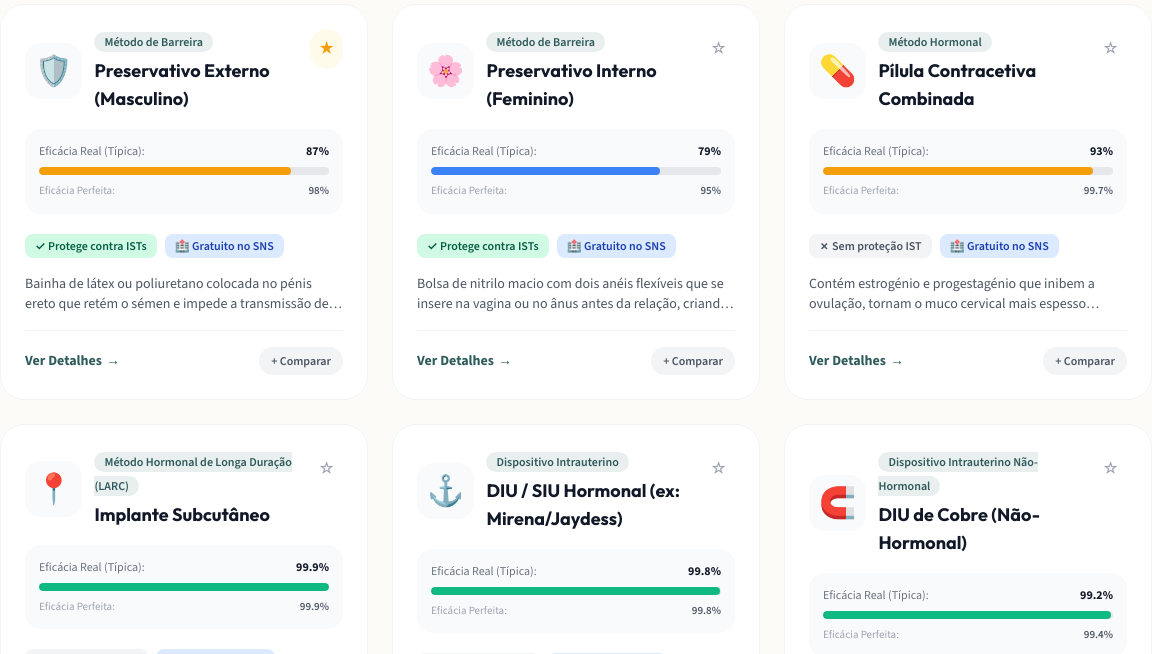
Scenario: ContraceptiveComparator › shows compare limit notice when trying to add 4th method
(page scrolled)
Click the button "+ Comparar" below "98": [301, 360] box [259,346,343,374]
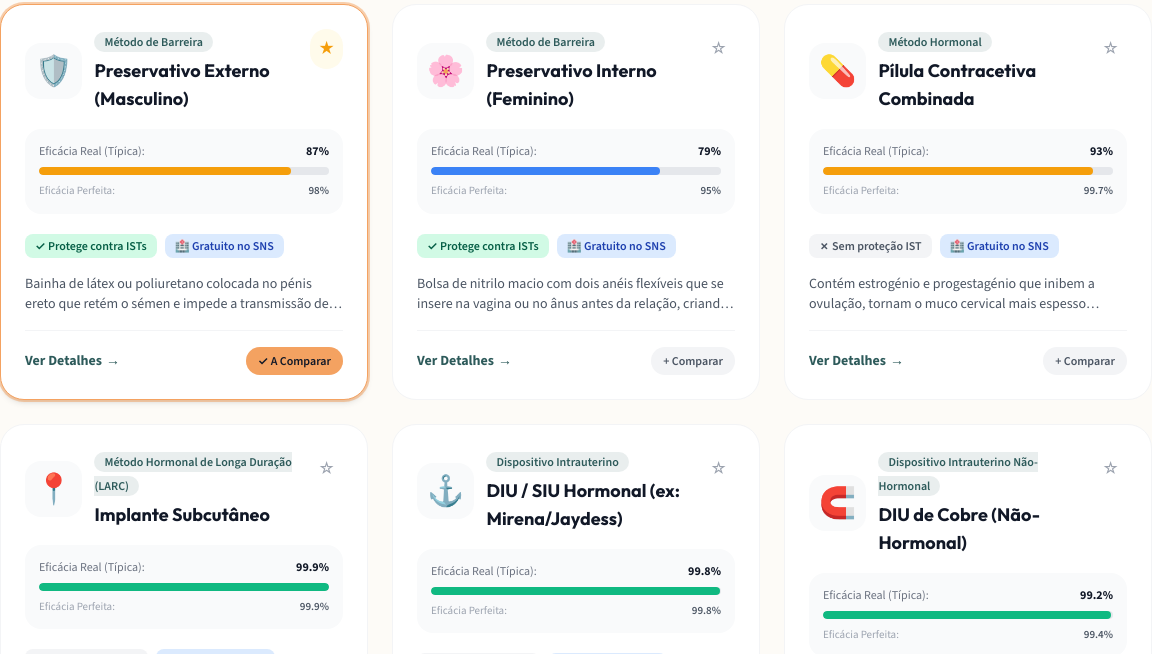
Click the button "+ Comparar" below "79": [693, 360] box [651,346,735,374]
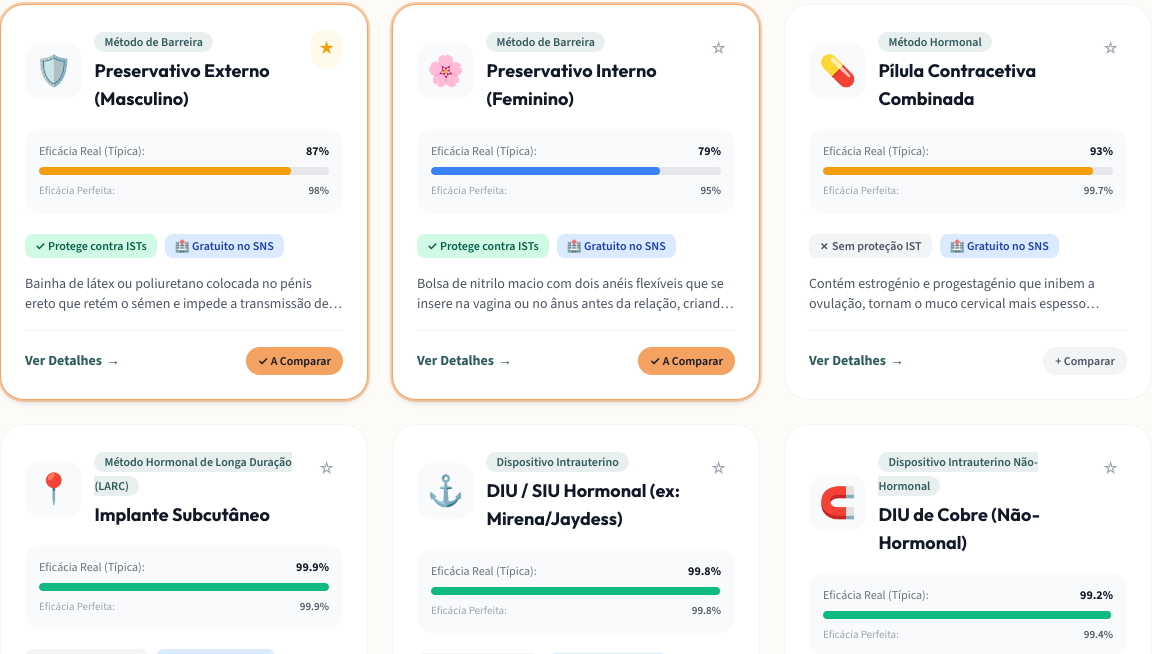
Click the button "+ Comparar": [1085, 360] box [1043,346,1127,374]
(page scrolled)
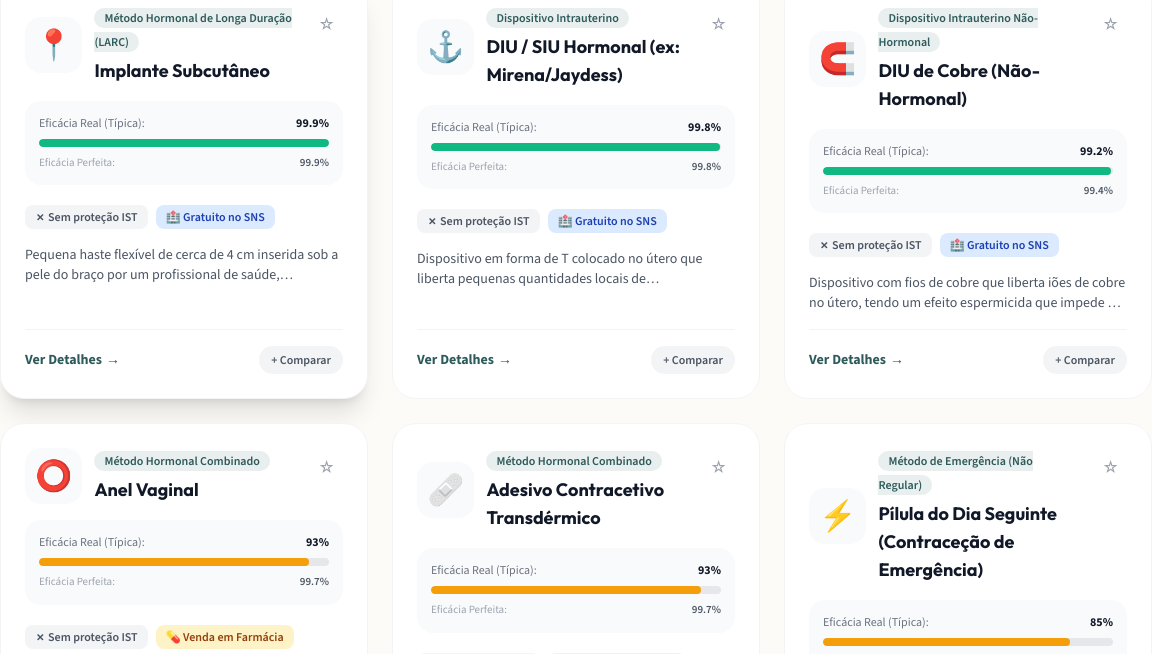
Click the button "+ Comparar" below "Implante Subcutâneo": [301, 360] box [259,346,343,374]
(page scrolled)
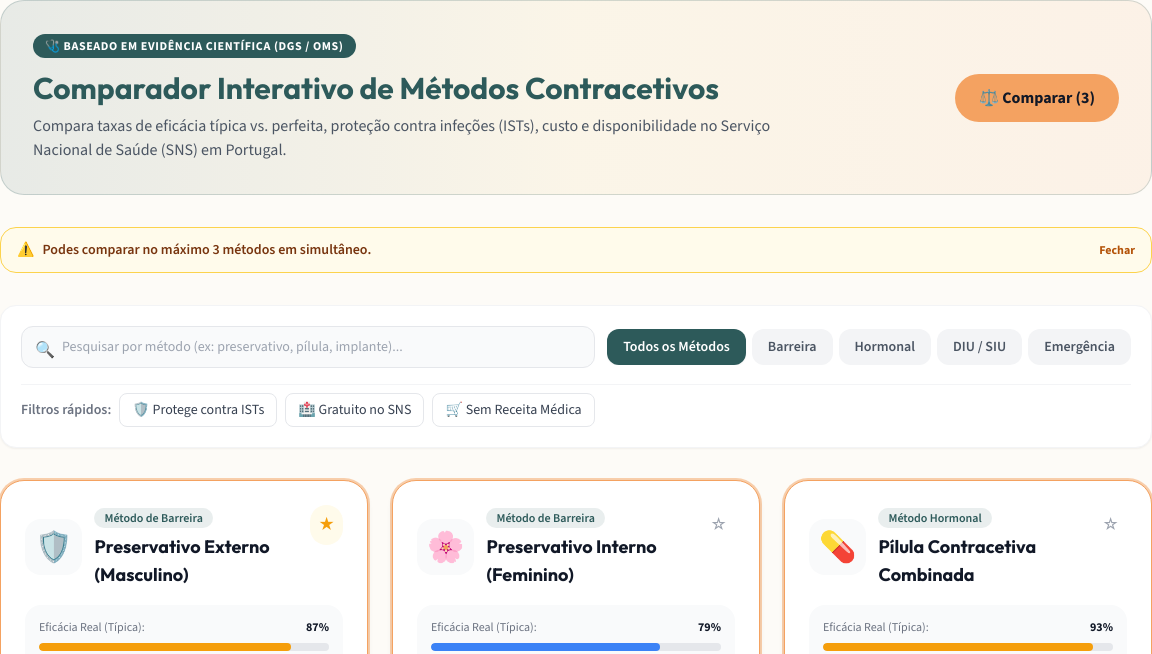
Check: the text "Podes comparar no máximo 3 métodos em simultâneo." is shown, box [42,240,371,260]
